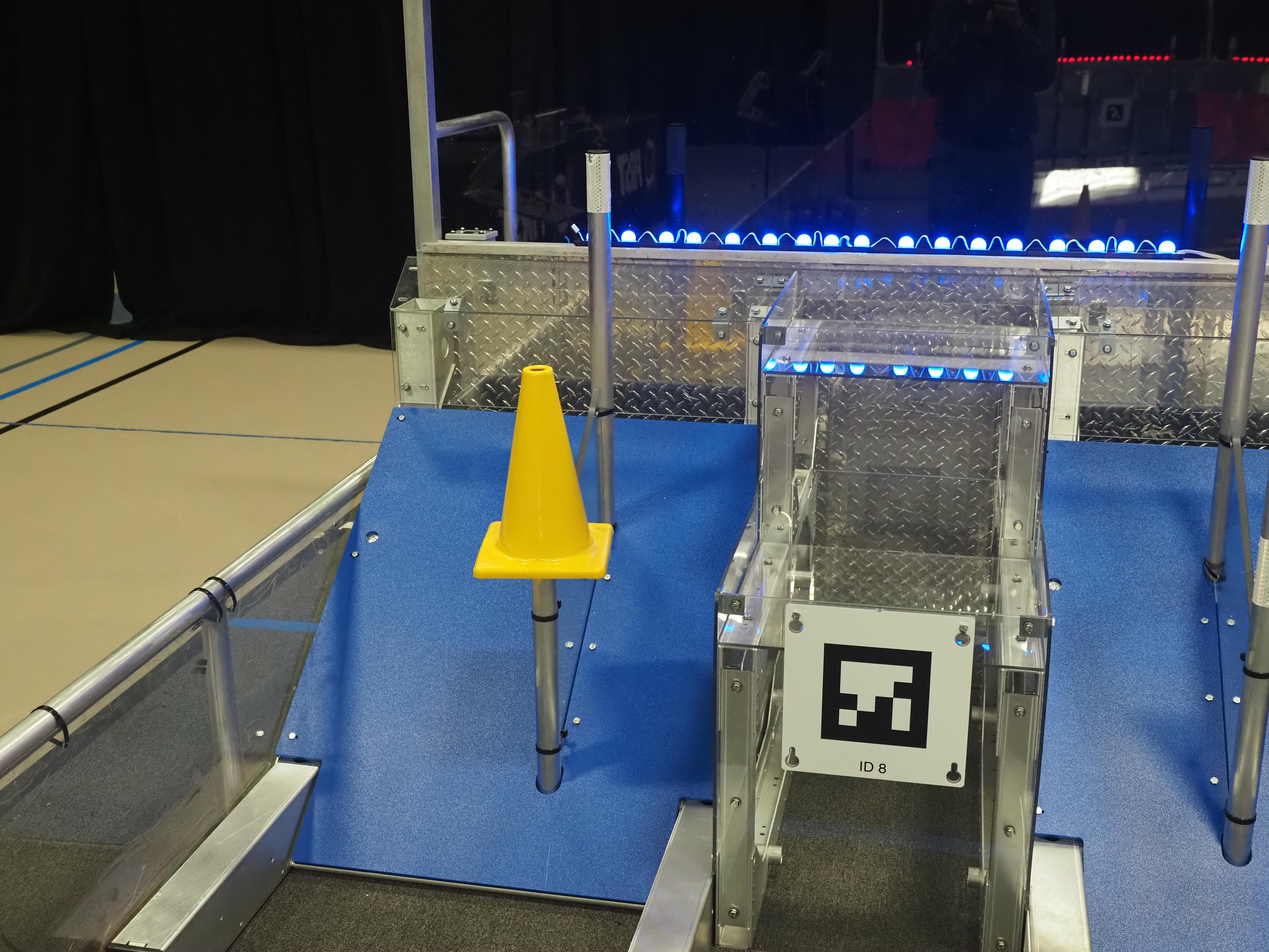cone: (466, 359, 619, 585)
